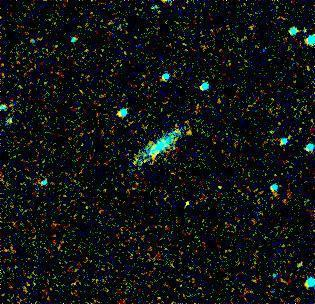star: (175, 118, 205, 148)
